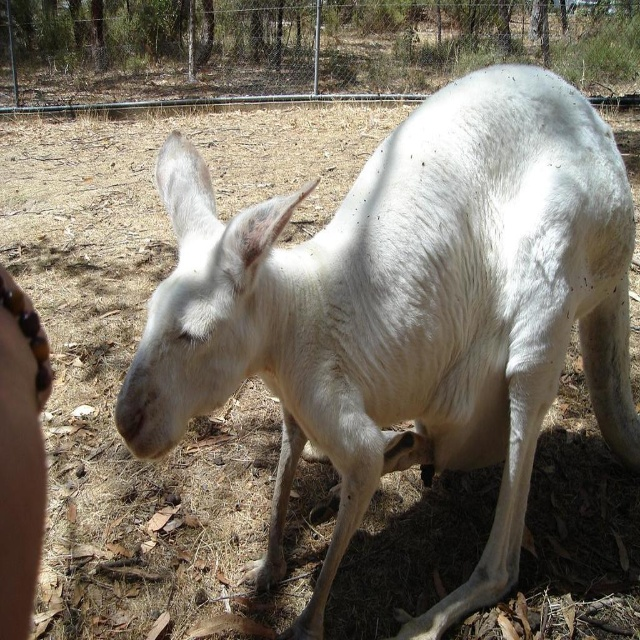Kangaroo: (109, 59, 640, 639)
